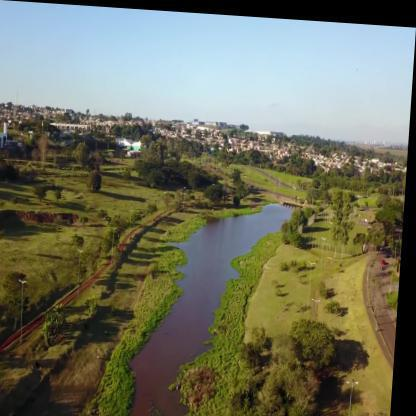agua: (176, 232, 219, 415), (217, 217, 247, 290)
